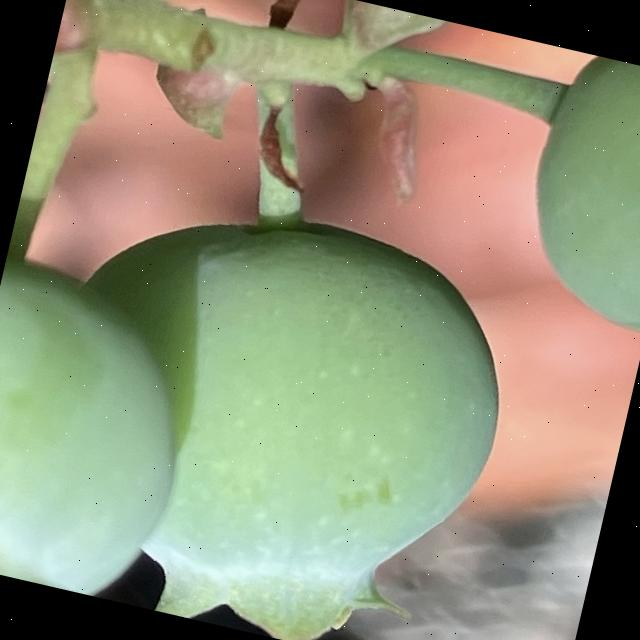Blueberries: (12, 173, 533, 640), (0, 255, 214, 608), (497, 47, 640, 360)
